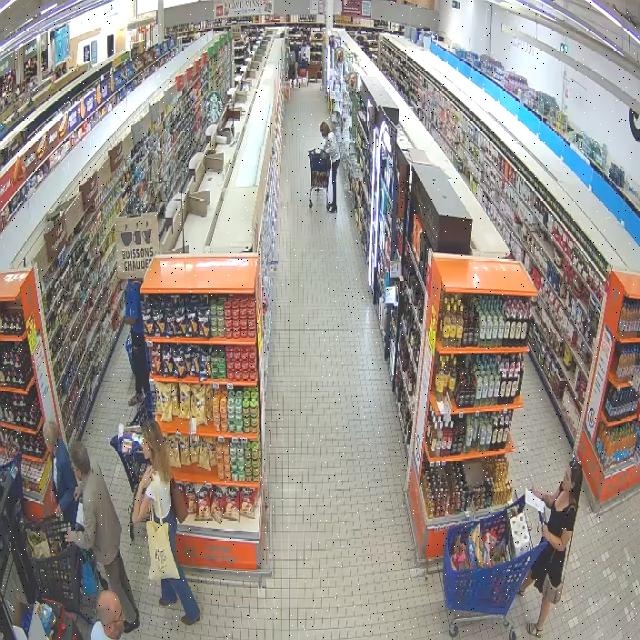bags: (542, 534, 572, 604), (170, 478, 188, 523)
hands: (140, 466, 153, 491), (532, 487, 544, 500), (542, 525, 549, 540), (74, 487, 81, 501), (67, 531, 74, 543), (56, 506, 62, 517)
person: (68, 442, 139, 633), (133, 421, 199, 625), (520, 458, 582, 637), (43, 422, 77, 526), (125, 279, 149, 405), (320, 122, 340, 212), (91, 590, 124, 639)
